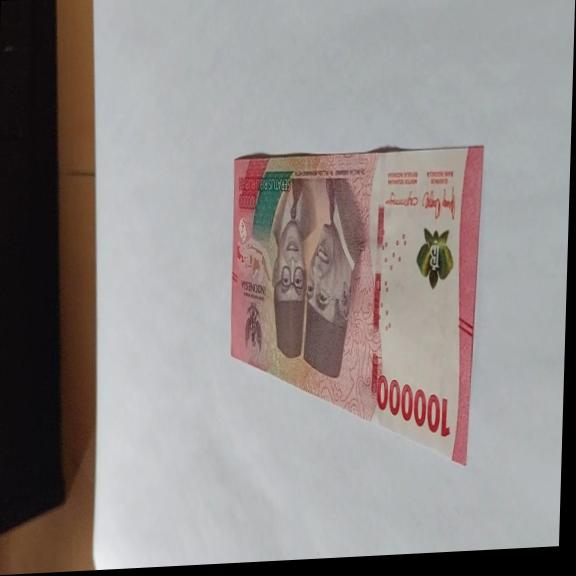Kertas: (222, 140, 484, 479), (374, 368, 452, 442)
